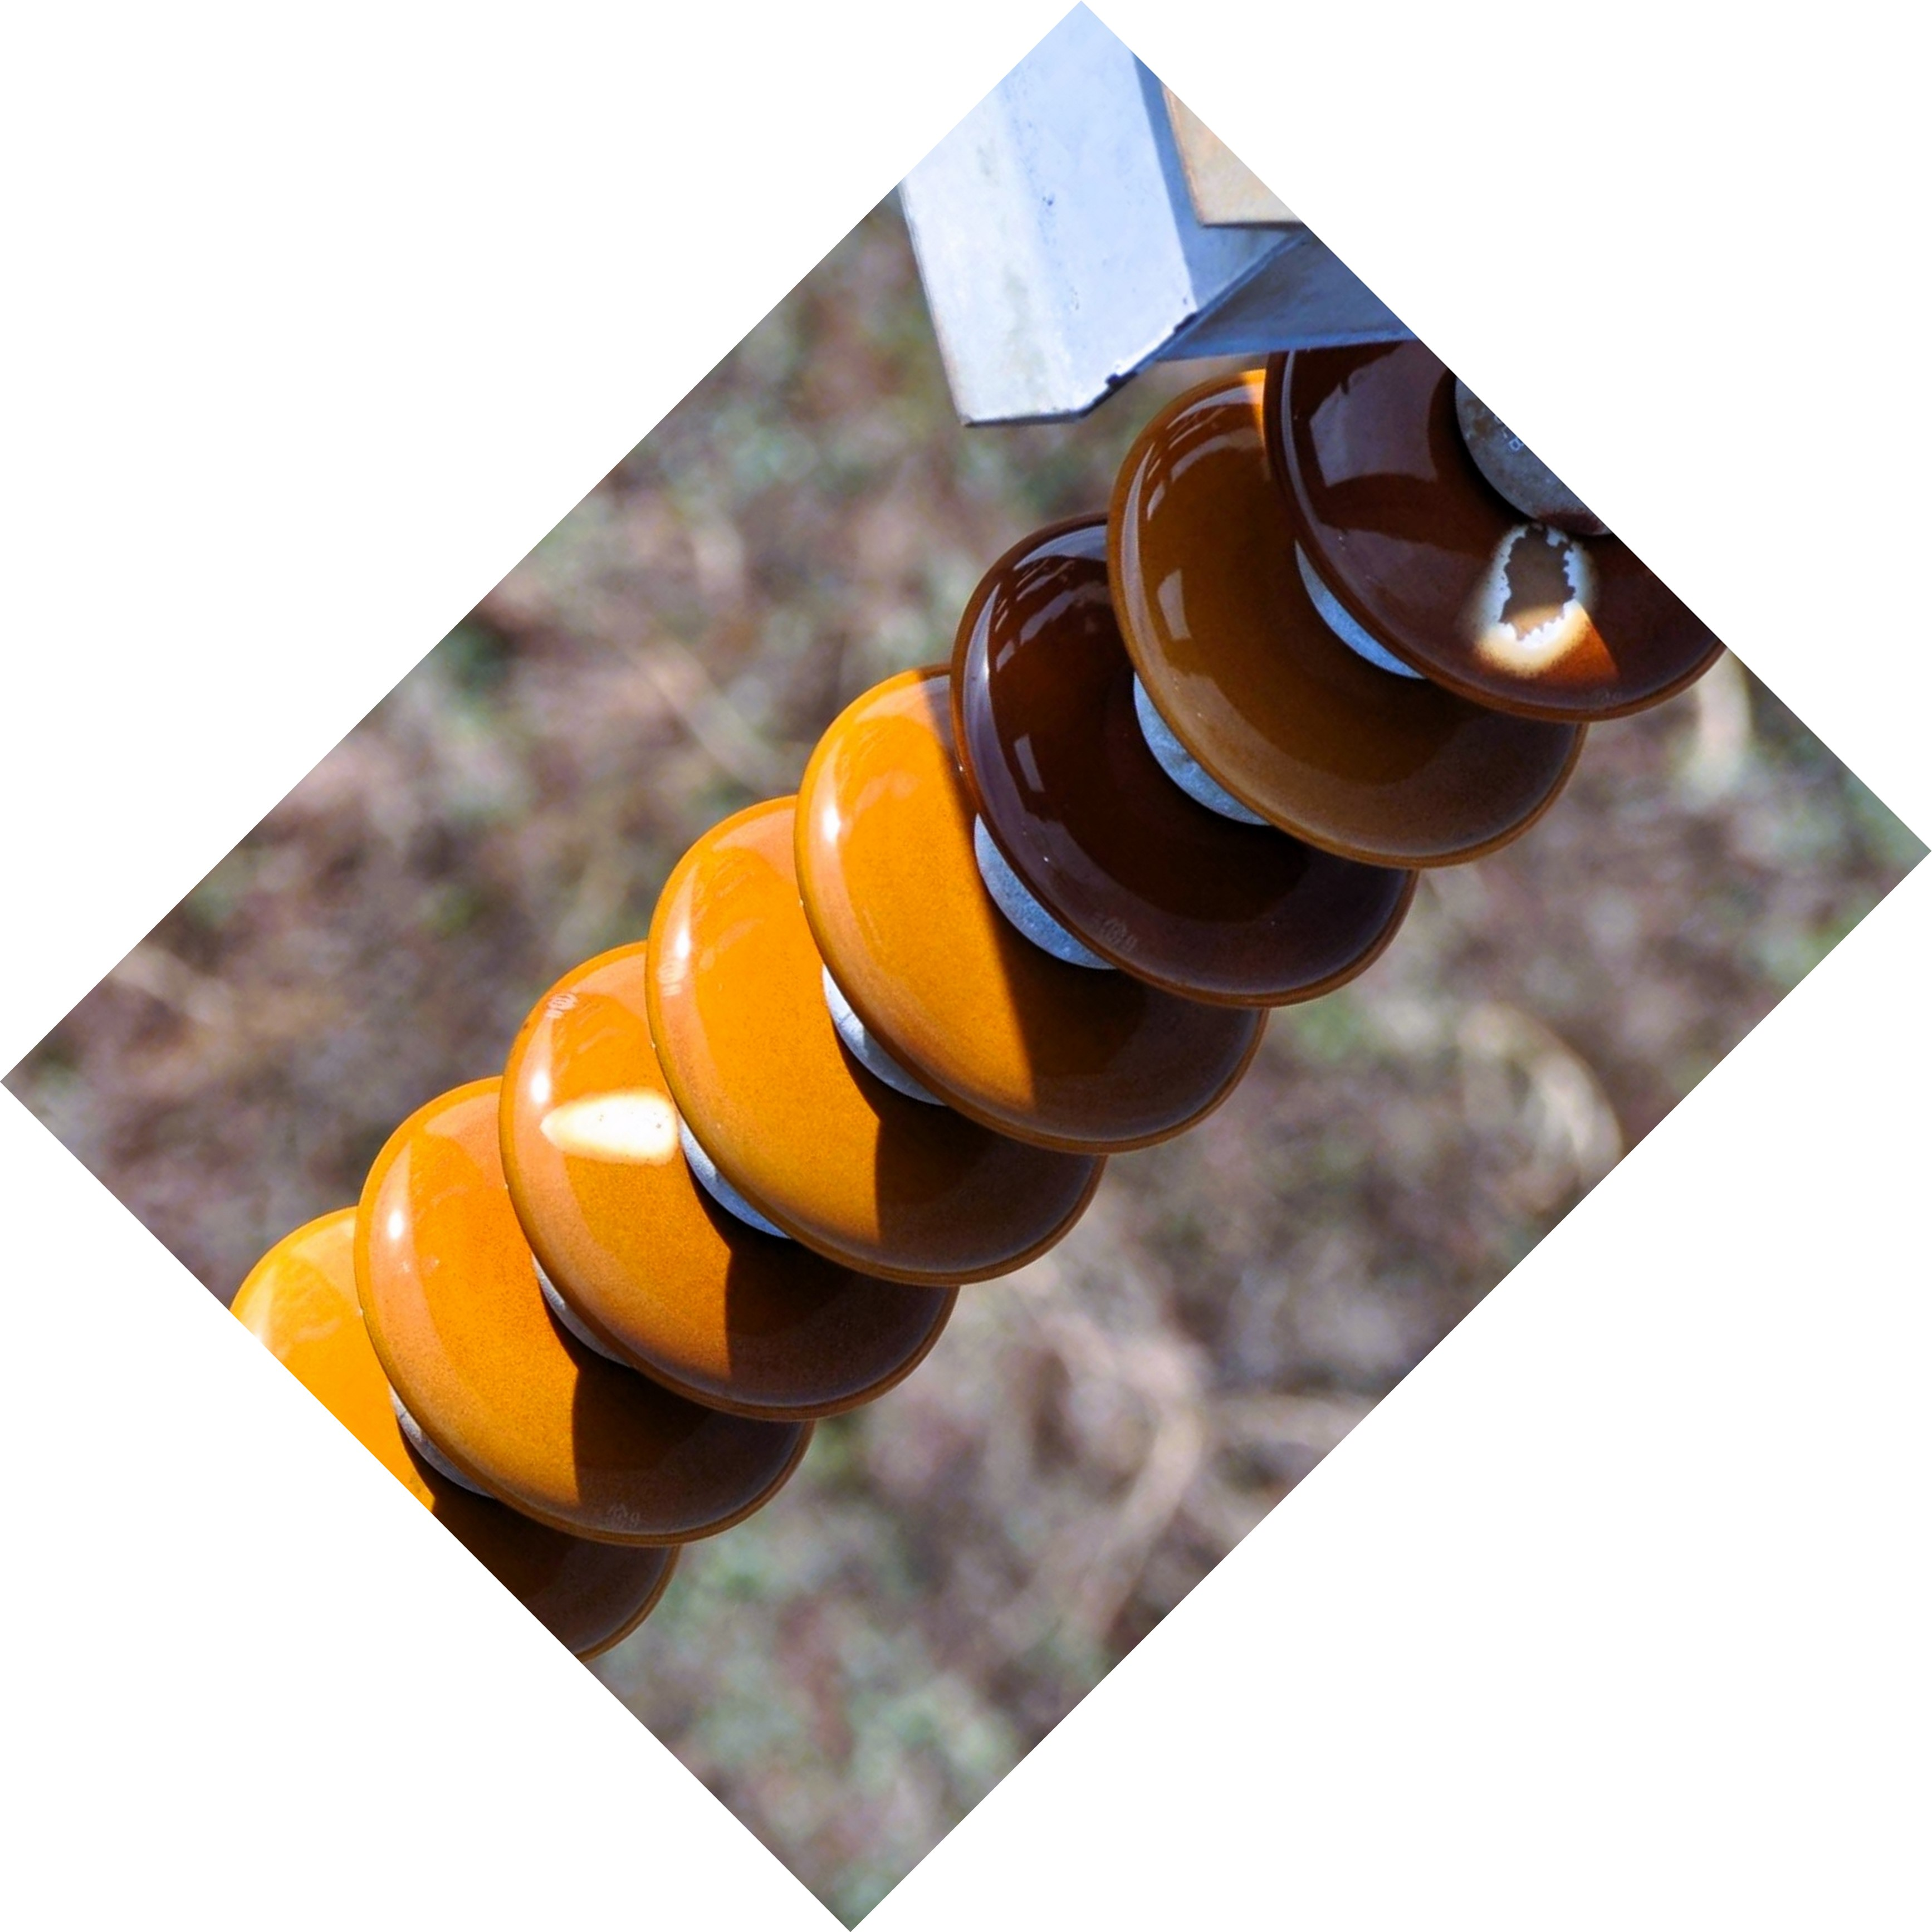Insulator flashover: (1247, 320, 1760, 731), (481, 947, 922, 1421)
